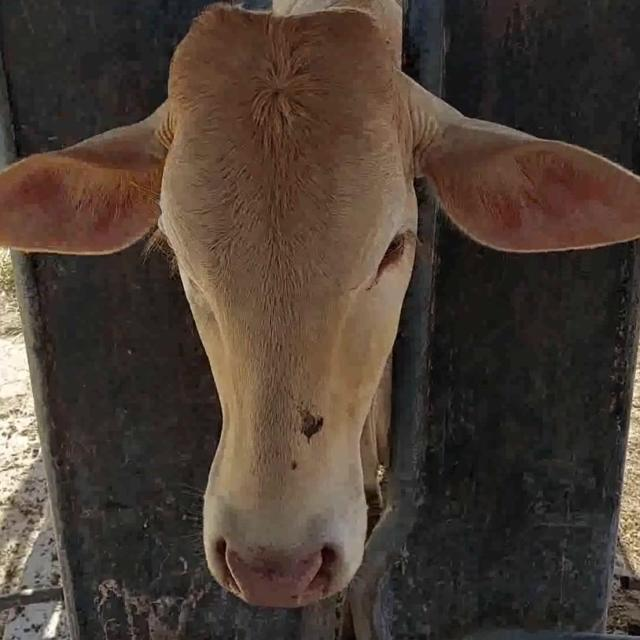cowFace: (163, 15, 420, 602)
